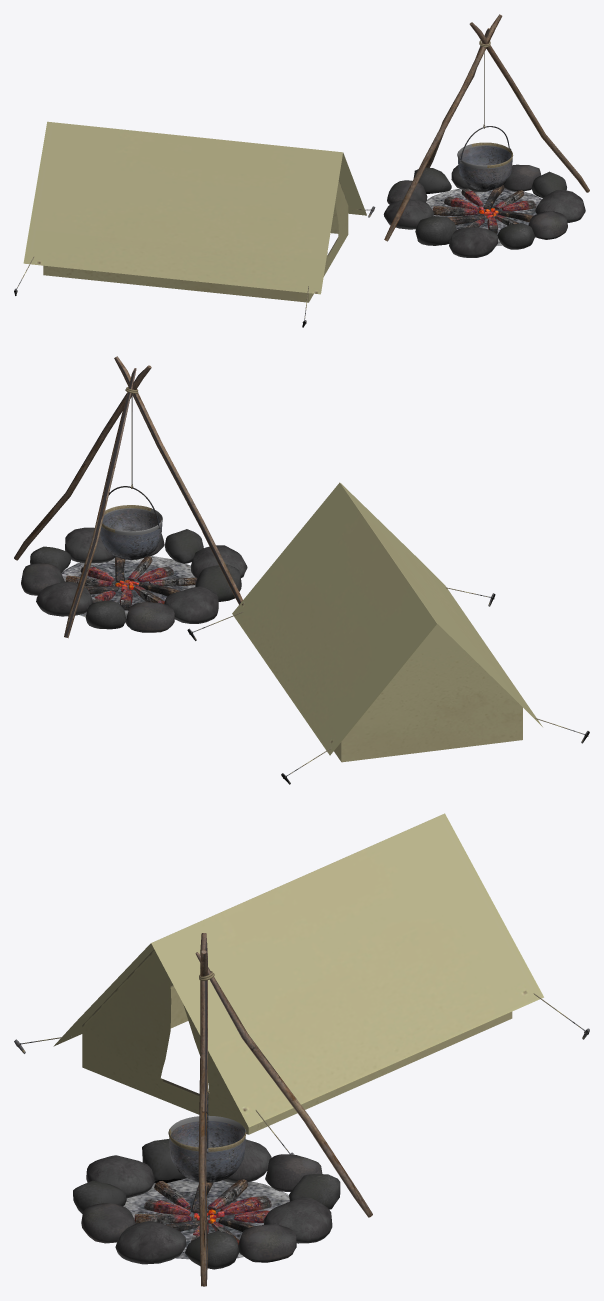
The model's file is Camp.obj.
The picture shows the model from 3 angles, top to bottom: view 1: azimuth 30°, elevation 25°; view 2: azimuth 150°, elevation 25°; view 3: azimuth 270°, elevation 25°; orthographic projection. The views are drawn at different scales.
Visible parts, largest first — view 1: camp Camp Camp_Fire, Camp_Fire Fire_Woods Rocks, Camp_Fire woods_and_ground Fire_Woods, Camp_Fire Fire_Woods utensil_and_rope; view 2: camp Camp Camp_Fire, Camp_Fire Fire_Woods Rocks, Camp_Fire woods_and_ground Fire_Woods, Camp_Fire Fire_Woods utensil_and_rope; view 3: camp Camp Camp_Fire, Camp_Fire Fire_Woods Rocks, Camp_Fire woods_and_ground Fire_Woods, Camp_Fire Fire_Woods utensil_and_rope.
Part boxes in pixels (x1,y1,x2,y2): camp Camp Camp_Fire: [23, 121, 366, 302]; Camp_Fire Fire_Woods Rocks: [383, 164, 585, 257]; Camp_Fire woods_and_ground Fire_Woods: [384, 14, 589, 246]; Camp_Fire Fire_Woods utensil_and_rope: [457, 40, 513, 190]; camp Camp Camp_Fire: [232, 482, 542, 762]; Camp_Fire Fire_Woods Rocks: [21, 527, 247, 632]; Camp_Fire woods_and_ground Fire_Woods: [14, 356, 242, 638]; Camp_Fire Fire_Woods utensil_and_rope: [100, 387, 162, 559]; camp Camp Camp_Fire: [53, 813, 543, 1134]; Camp_Fire Fire_Woods Rocks: [73, 1139, 340, 1269]; Camp_Fire woods_and_ground Fire_Woods: [123, 933, 372, 1286]; Camp_Fire Fire_Woods utensil_and_rope: [168, 971, 246, 1182].
Size of the model in its own units: 64.51 by 23.37 by 42.83.
1 material, 1 textured.
